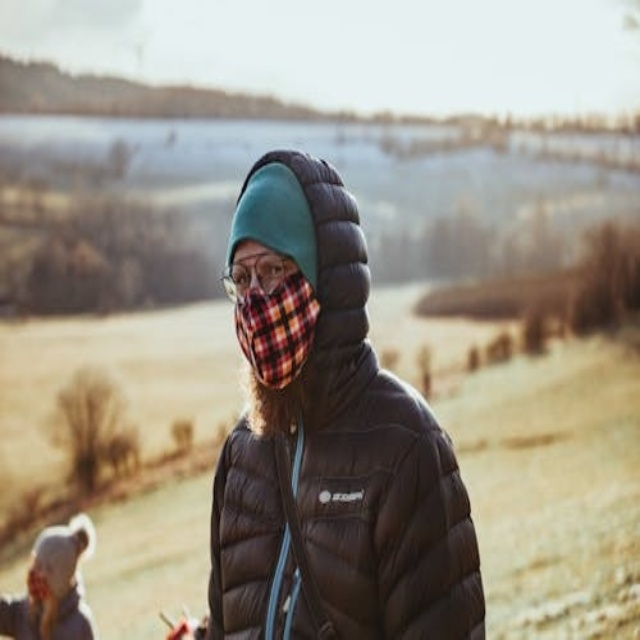Gafas: (220, 259, 297, 305)
Mascara: (232, 272, 320, 391), (27, 567, 51, 605)
